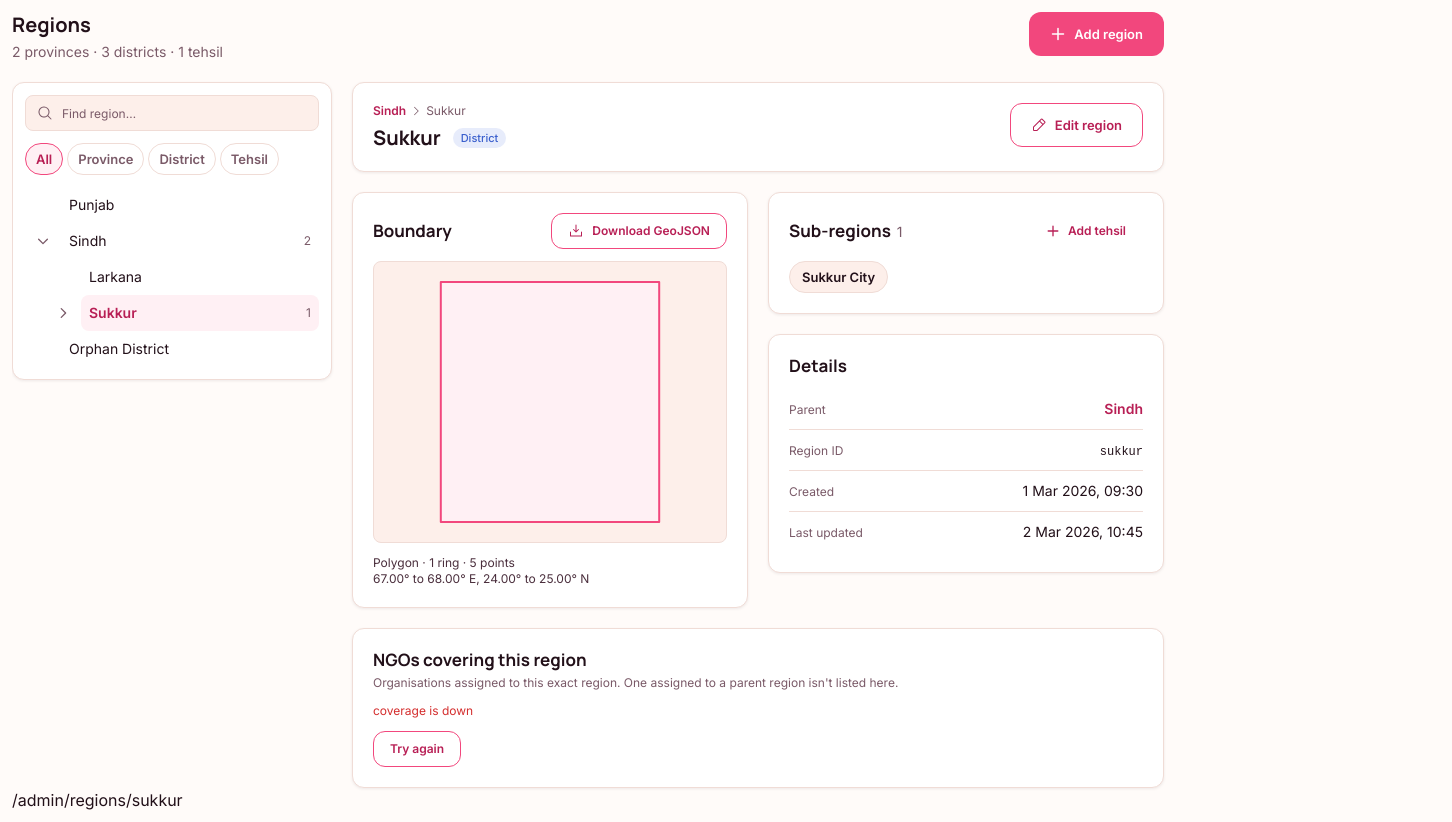
Test: RegionsPage — NGO coverage › a failure loading the organisations stays in their card — the region is still shown — and retries
Check: the heading "Sukkur" is shown, box [373,125,441,151]
Check: the message reads "coverage is down", box [373,703,473,718]
Click the button named "Try again" below "coverage is down" at (417, 749), box [373,731,461,767]
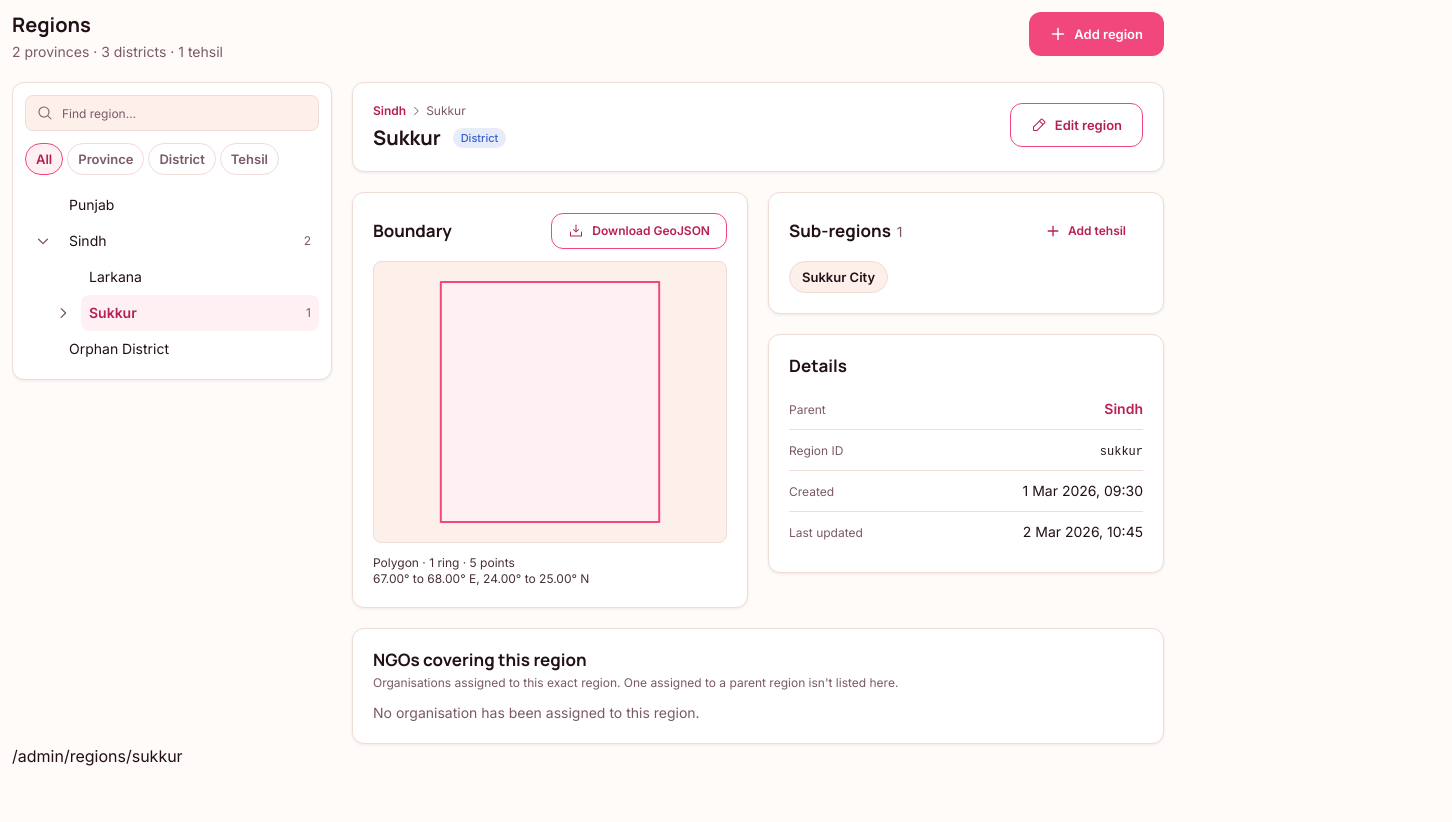
Check: the text "No organisation has been assigned to this region." is shown, box [373,704,700,721]
